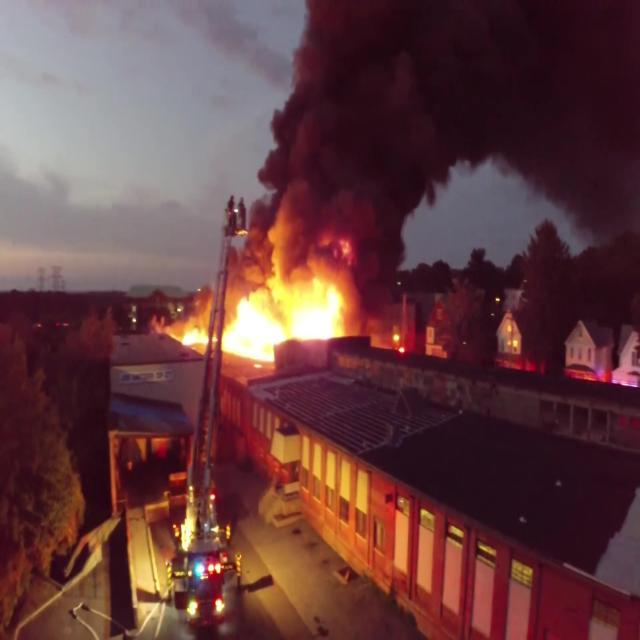Fire: (178, 278, 346, 360)
Smoke: (220, 0, 640, 294)
